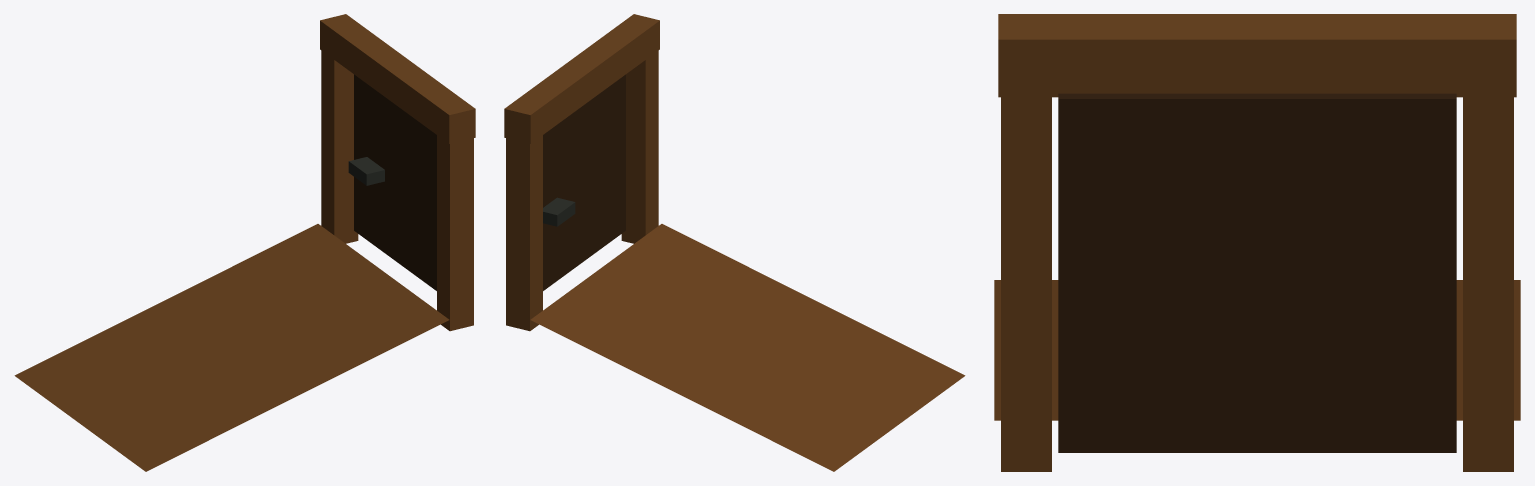
Rendered from published-amberwood-motherroot-root-hatch.glb.
The picture shows the model from 3 angles, left to right: view 1: azimuth 30°, elevation 25°; view 2: azimuth 150°, elevation 25°; view 3: azimuth 270°, elevation 25°; orthographic projection. The views are drawn at different scales.
Parts seen in each view (by area): view 1: Walk_Motherroot_RootHatch, Motherroot_RootHatch_Frame, Motherroot_RootHatch_Door, Motherroot_RootHatch_Latch; view 2: Walk_Motherroot_RootHatch, Motherroot_RootHatch_Frame, Motherroot_RootHatch_Door, Motherroot_RootHatch_Latch; view 3: Motherroot_RootHatch_Door, Motherroot_RootHatch_Frame, Walk_Motherroot_RootHatch.
Part boxes in pixels (x1,y1,x2,y2): Walk_Motherroot_RootHatch: (14, 224, 449, 471); Motherroot_RootHatch_Frame: (320, 14, 475, 331); Motherroot_RootHatch_Door: (354, 74, 436, 290); Motherroot_RootHatch_Latch: (348, 157, 384, 185); Walk_Motherroot_RootHatch: (530, 224, 965, 471); Motherroot_RootHatch_Frame: (504, 14, 659, 331); Motherroot_RootHatch_Door: (543, 74, 625, 290); Motherroot_RootHatch_Latch: (543, 197, 575, 226); Motherroot_RootHatch_Door: (1058, 93, 1456, 452); Motherroot_RootHatch_Frame: (998, 14, 1516, 471); Walk_Motherroot_RootHatch: (994, 280, 1520, 420).
Size of the model in its own units: 4.87 by 3.9 by 3.3.
